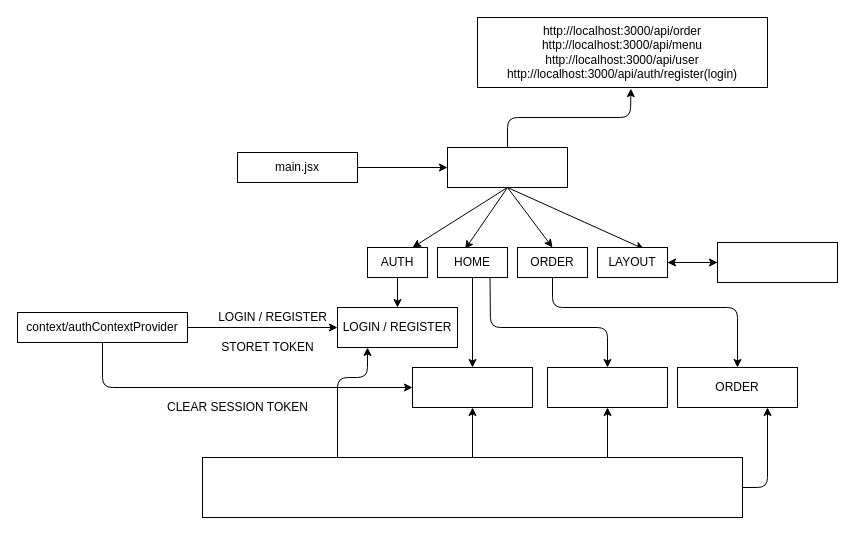
The diagram is 855 pixels wide and 535 high, and some of its shapes have lost their labels. Here are the shapes that lost their labels. From the top down, the box of each, then its label:
(446, 146, 568, 188): ROUTES
(716, 242, 838, 282): FOR FURTHER
(412, 366, 532, 408): MENU
(546, 366, 668, 408): CART
(202, 456, 742, 518): FOR ADMIN WE CAN USE UPDATE , DLETE AND POST
